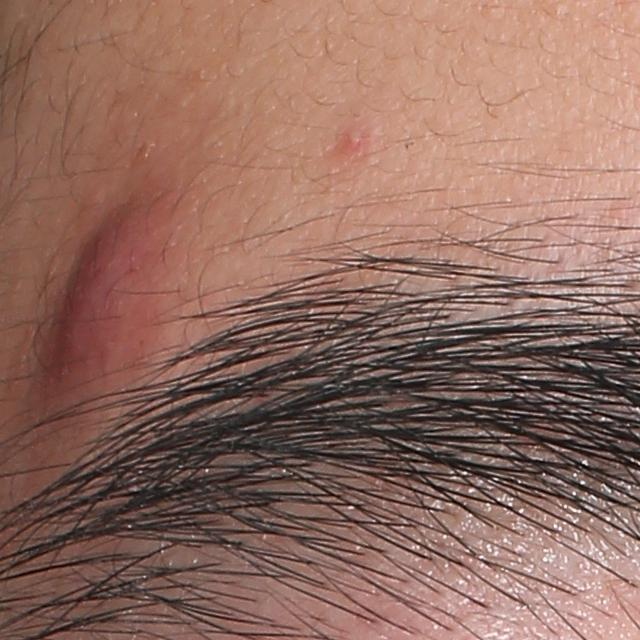nodule: (24, 185, 178, 409)
papule: (335, 126, 371, 159)
